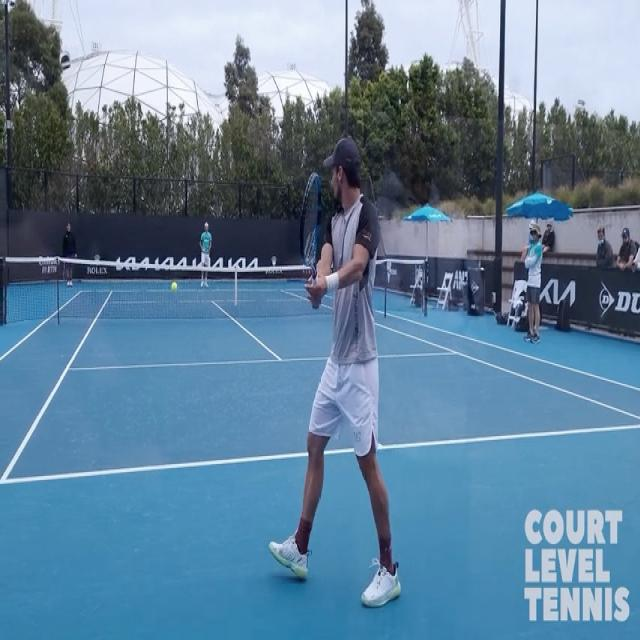backhand-ready: (286, 135, 417, 610)
